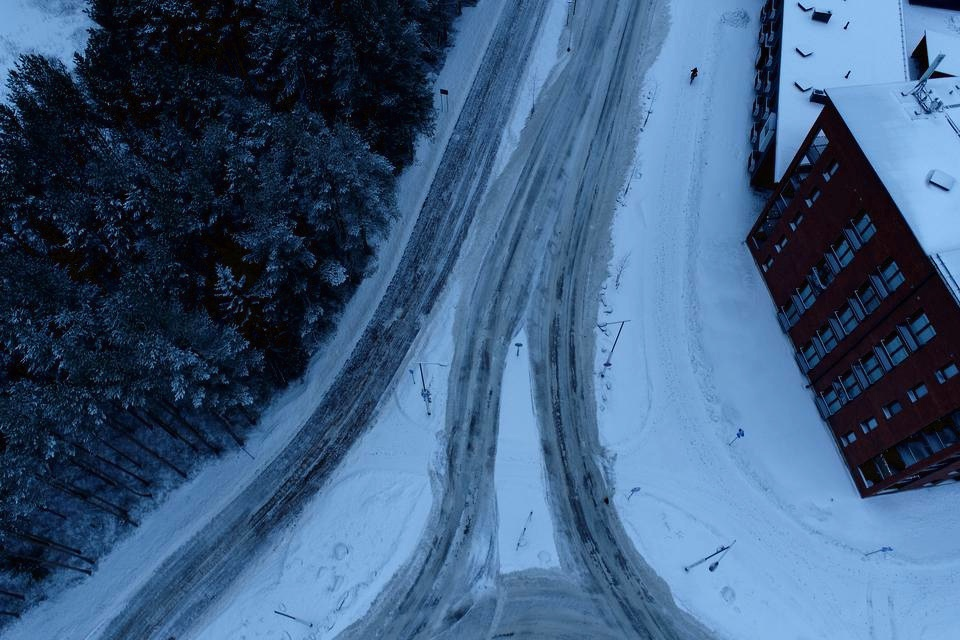roundabout: (263, 538, 768, 640)
